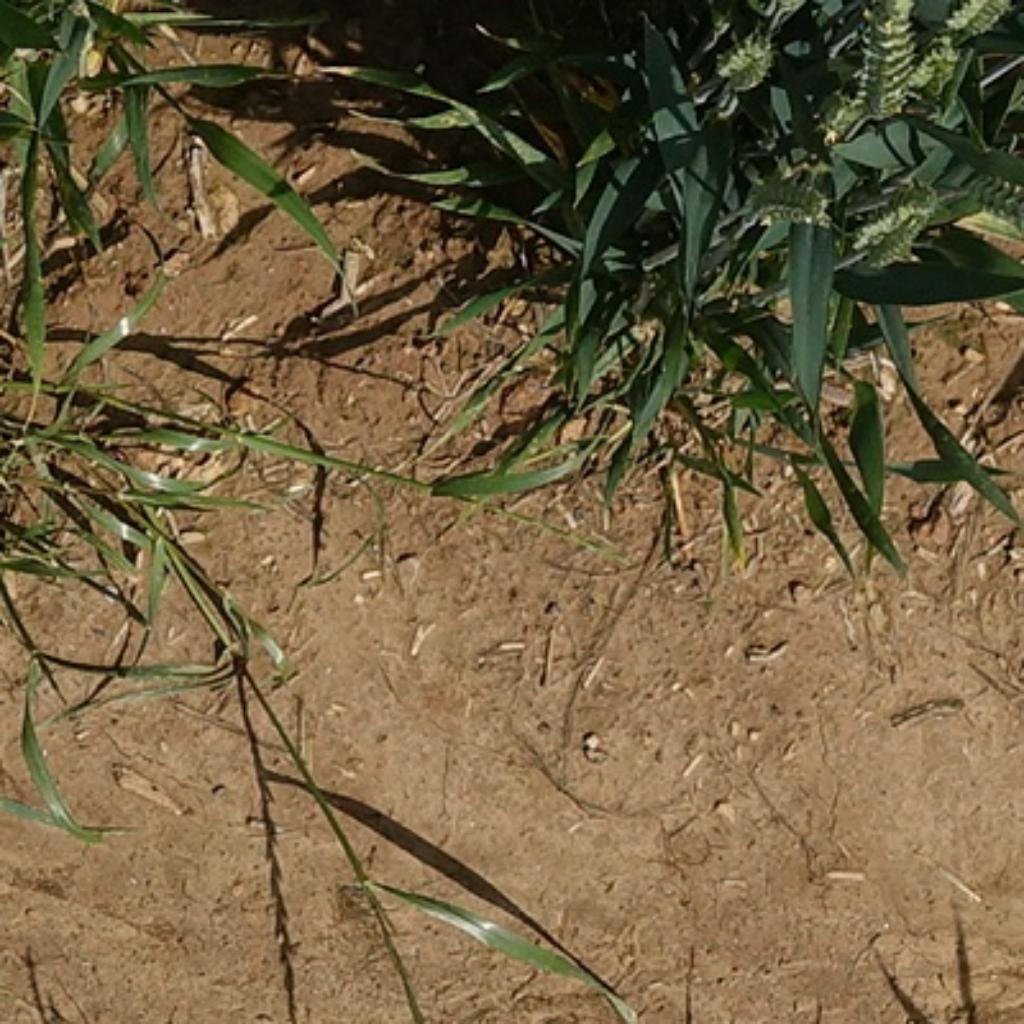0-0: (844, 174, 944, 266), (849, 2, 921, 125), (737, 158, 829, 230), (949, 163, 1024, 248), (890, 40, 965, 125), (709, 25, 778, 94), (944, 0, 1018, 46)
